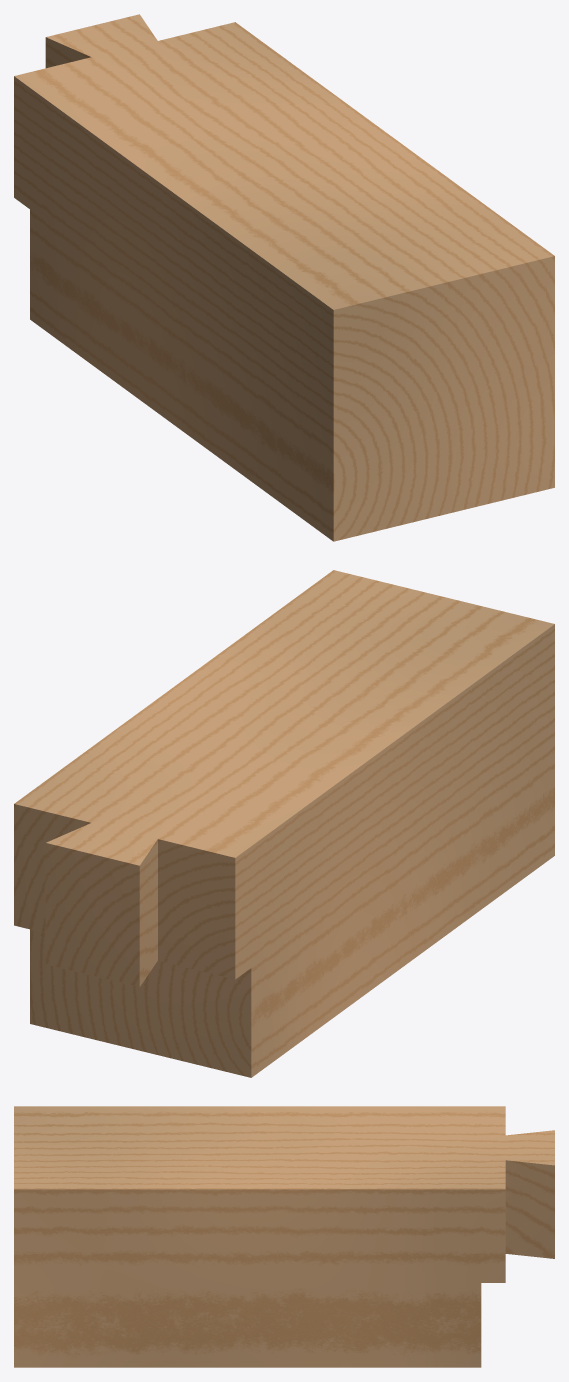
The model's file is Onta(0.3mm).fbx.
3 views of the same model, one above another, from view 1: azimuth 30°, elevation 25°; view 2: azimuth 150°, elevation 25°; view 3: azimuth 270°, elevation 25° (orthographic). The views are drawn at different scales.
Visible parts, largest first — view 1: Onta; view 2: Onta; view 3: Onta.
Part boxes in pixels (box(x1,y1,x2,y2)): Onta: box(14, 14, 554, 541); Onta: box(14, 570, 554, 1077); Onta: box(14, 1106, 554, 1367).
Size of the model in its own units: 0.1212 by 0.1212 by 0.3333.
1 material, 1 textured.
